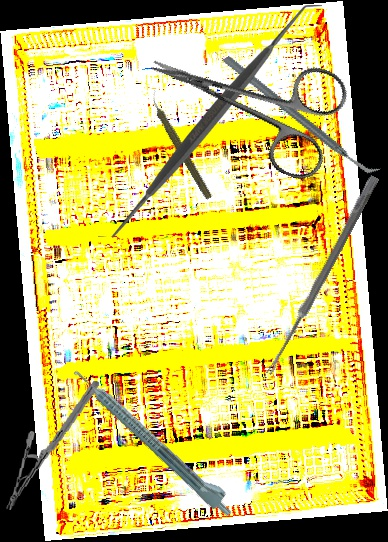Chopper: (221, 17, 382, 212)
Handpiece: (70, 359, 241, 521), (143, 88, 217, 202)
Iris Scissors: (132, 8, 355, 186)
Needle Holder: (6, 373, 99, 518)
Spatula Surgical: (98, 5, 322, 237)
Surgical Spoon: (264, 174, 380, 377)
